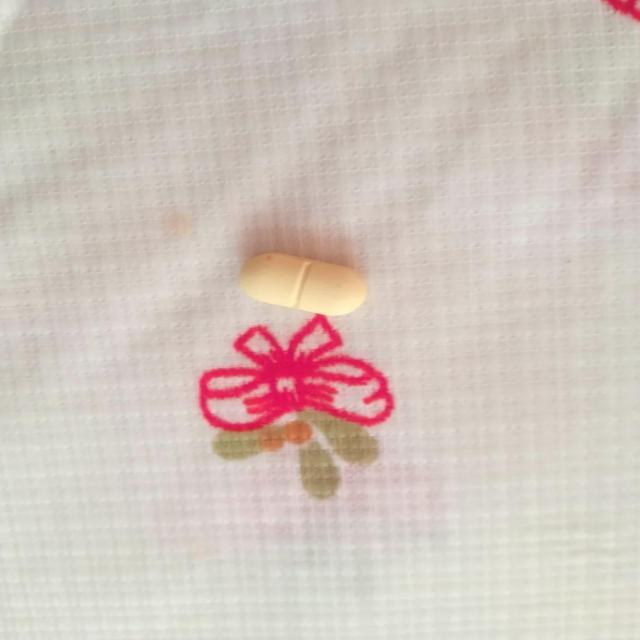pill: (234, 248, 384, 322)
